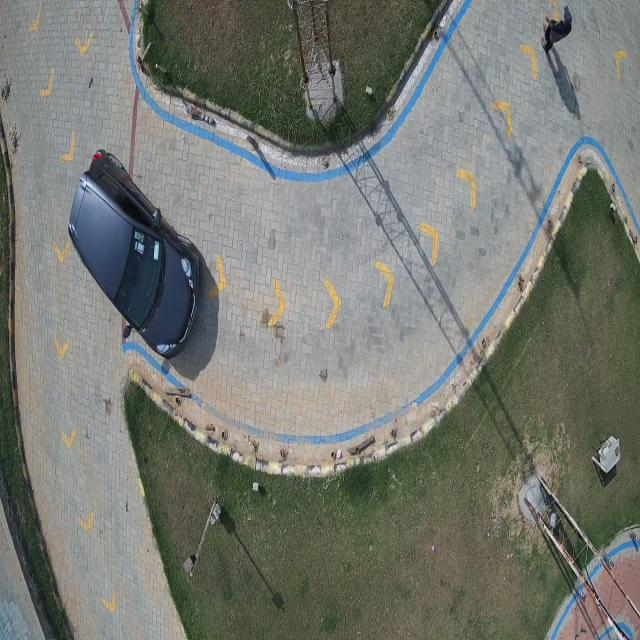car: (66, 153, 206, 359)
